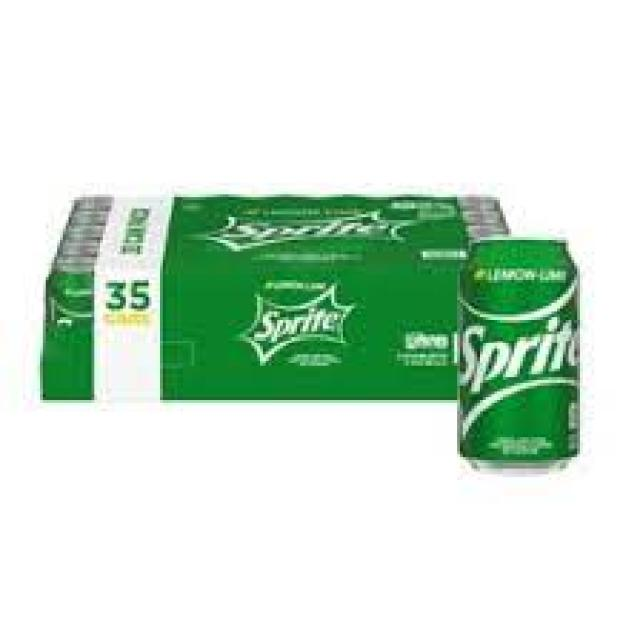Cans: (448, 232, 588, 474)
